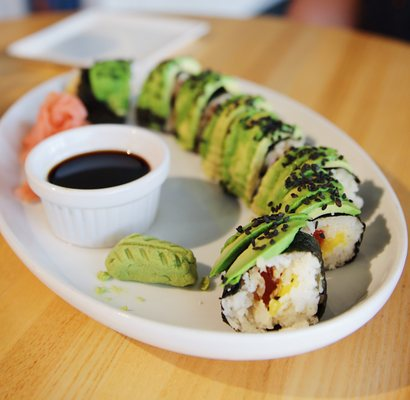curry: (202, 212, 317, 296), (82, 60, 132, 120)
pizza: (22, 123, 172, 248)
sushi: (29, 62, 409, 363)
